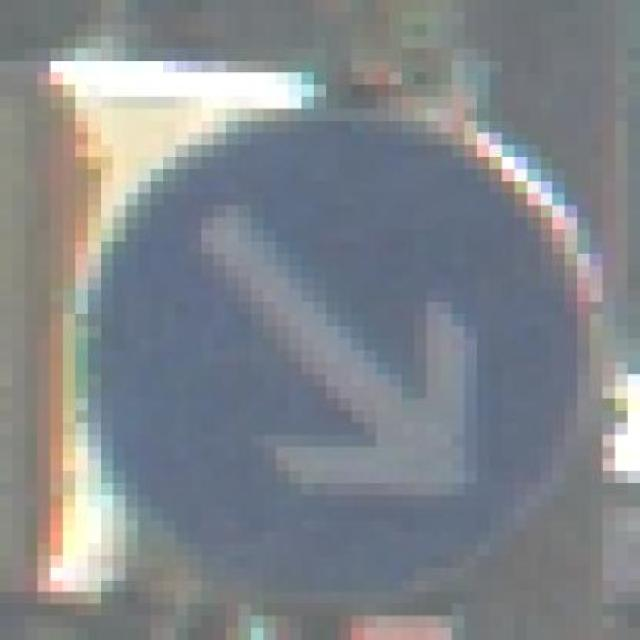Keep-Right: (62, 72, 615, 616)
